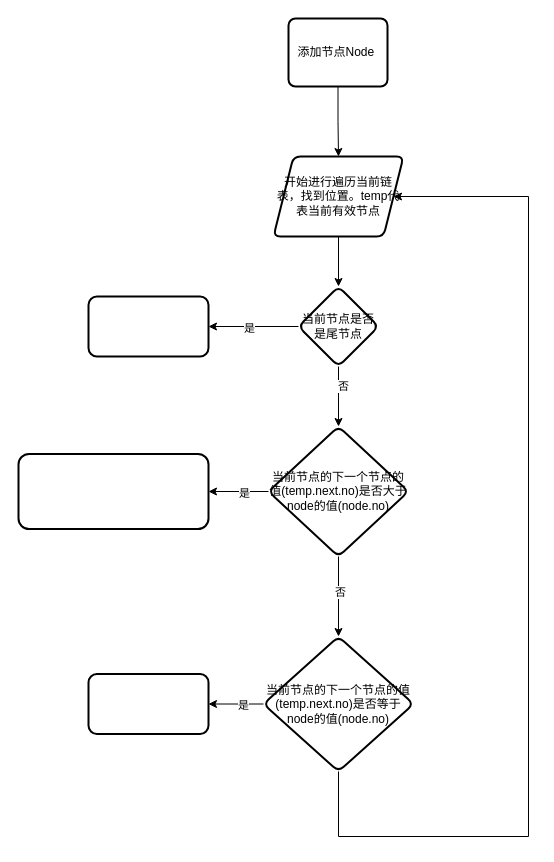
Image size: 554x862. Some labels were removed from this diagram. The centre of each missing label's shape, as x and y in pixels:
将待添加节点的next指向当前节点的next，再将当前节点的next指向待添加节点 node.next=temp.next; temp.next=node;: [113,491]
直接添加到尾节点: [148,326]
输出提示已经存在相同节点: [148,703]
